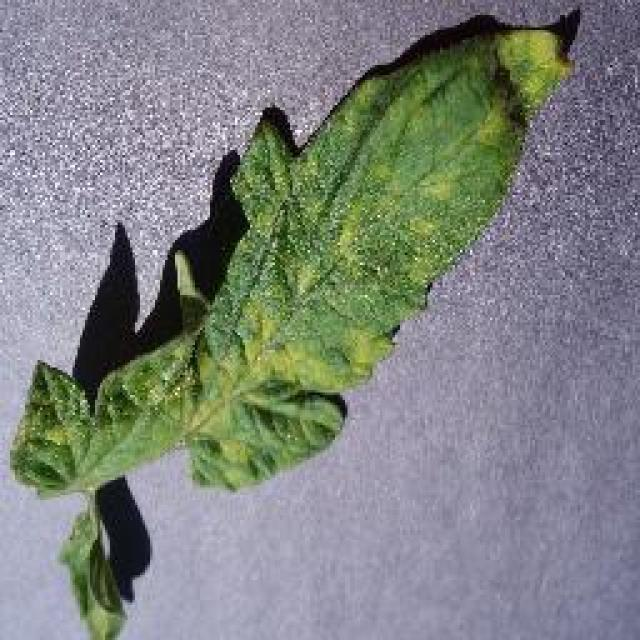Tomato mold leaf: (12, 24, 570, 498)
